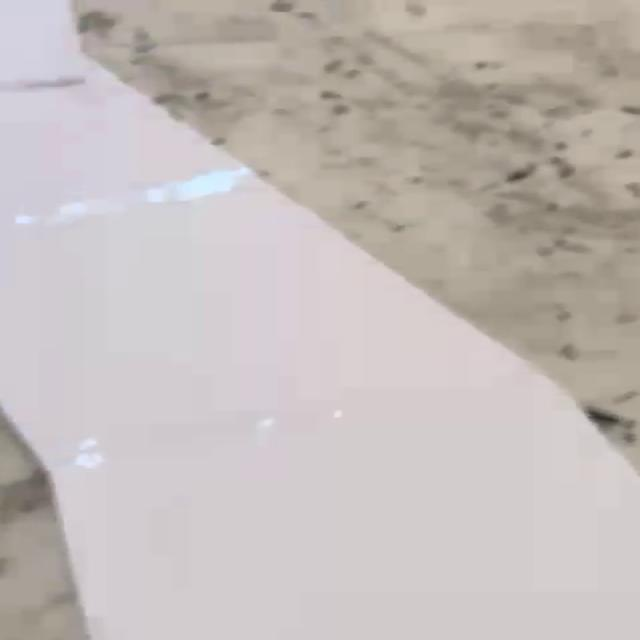road: (1, 0, 639, 640)
